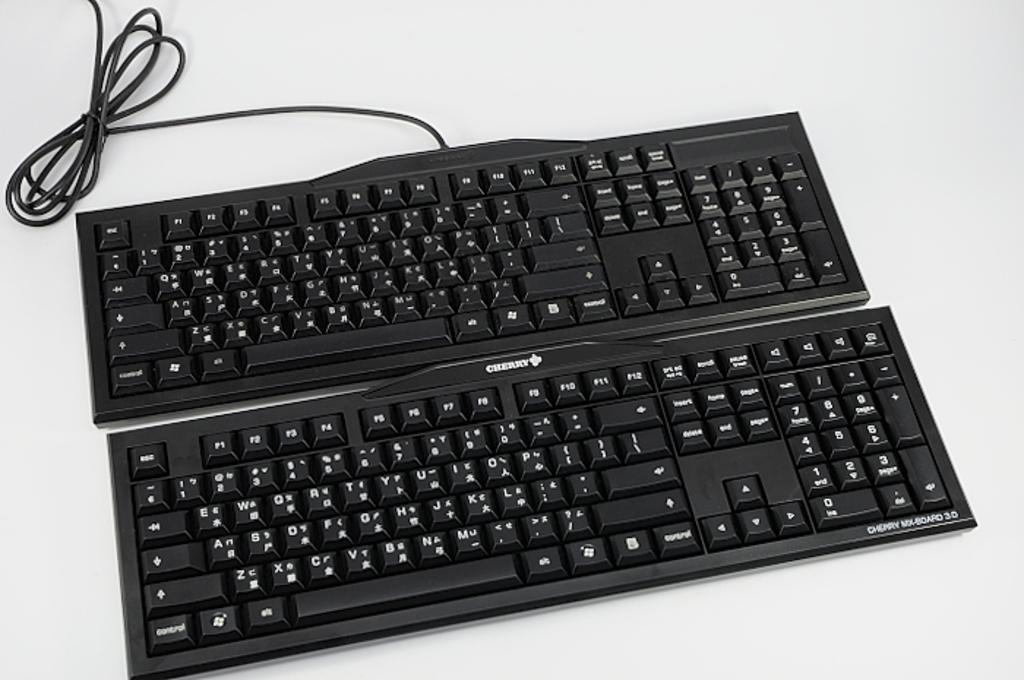Computer-keyboard: (0, 0, 869, 430), (101, 300, 980, 679)
